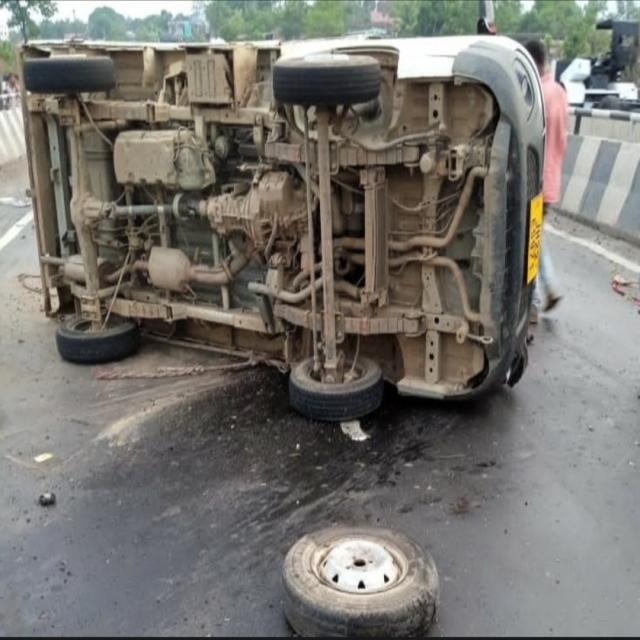accident: (20, 35, 545, 420)
